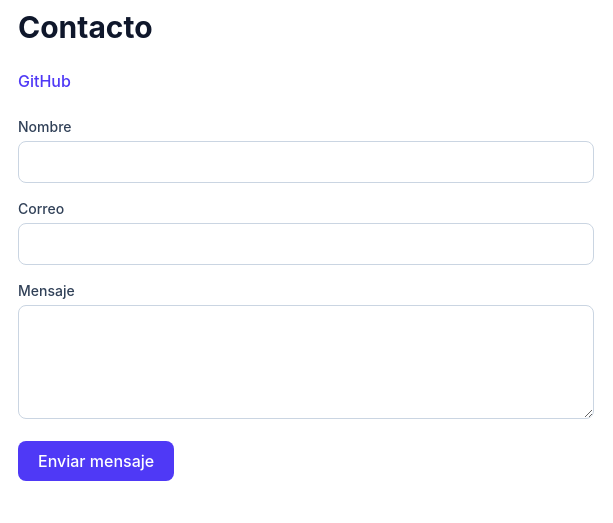
Test: ContactSection › muestra un error si el correo no es válido
The width and height of the screenshot is (613, 523).
In the field labelled "Nombre": coordinates (306, 162) [18,141,594,183], type "Ana"
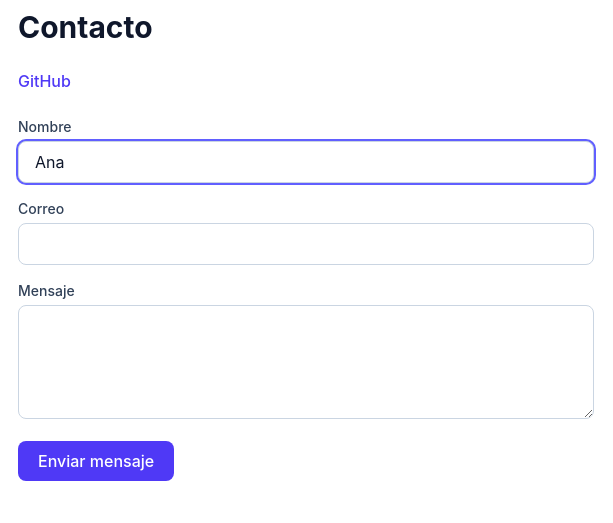
In the field labelled "Correo": coordinates (306, 244) [18,223,594,265], type "correo-malo"
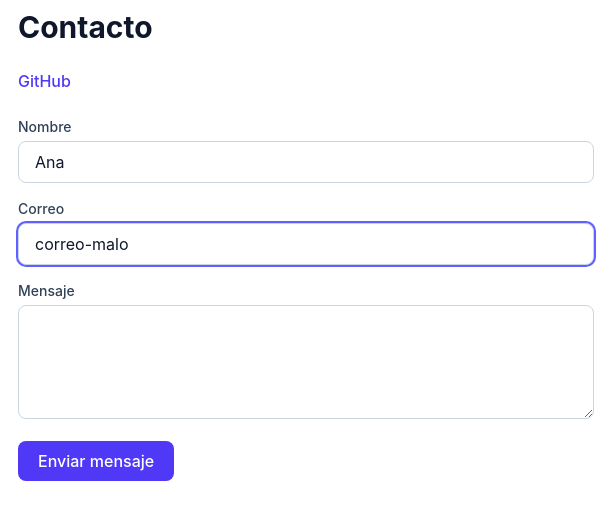
In the text box labelled "Mensaje": coordinates (306, 362) [18,305,594,419], type "Mensaje de prueba largo"
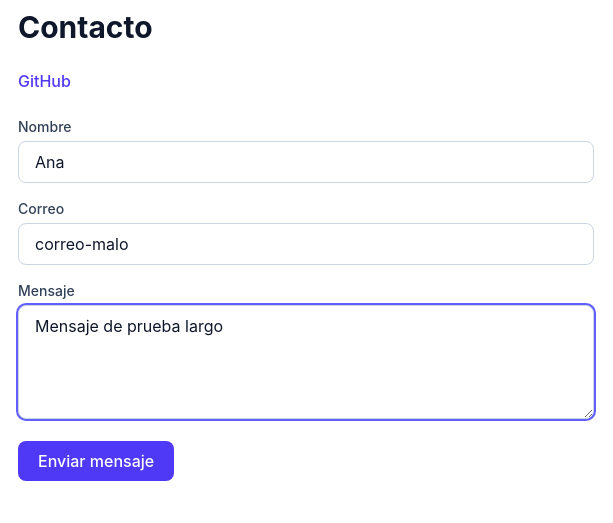
Click the button "Enviar mensaje": coordinates (96, 461) [18,441,174,481]
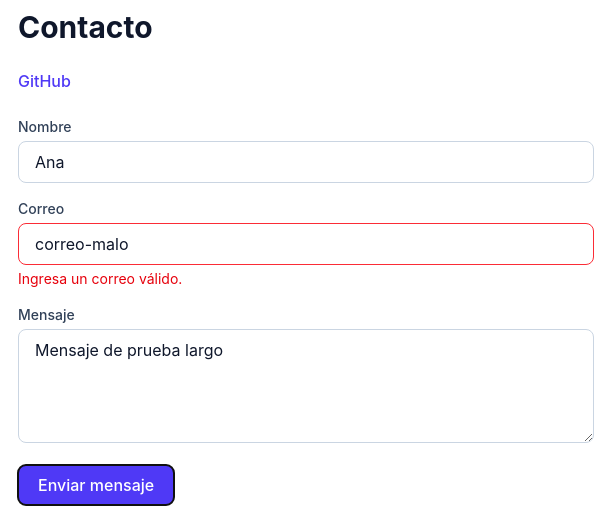
Expected: the text "Ingresa un correo válido." is shown, [18,270,182,287]
